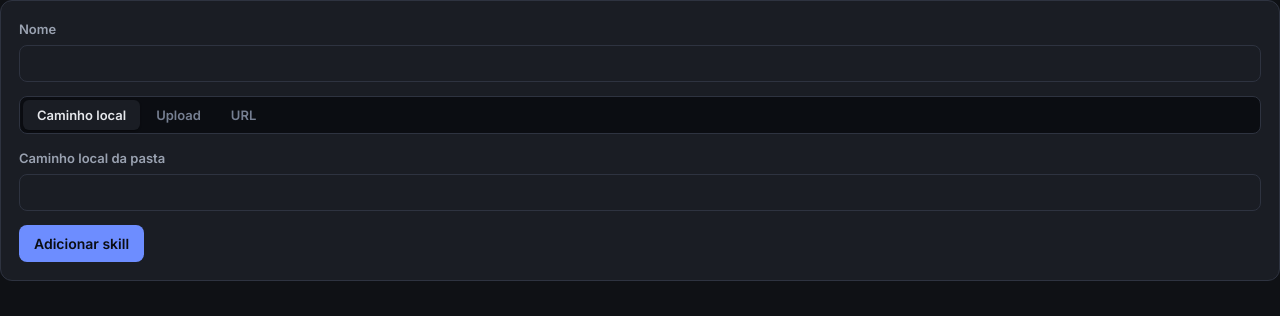
Test: SkillForm › shows an error when submitting the upload tab without a file
Type "Skill Upload" into the field labelled "Nome" at (640, 64), box [19,45,1261,82]
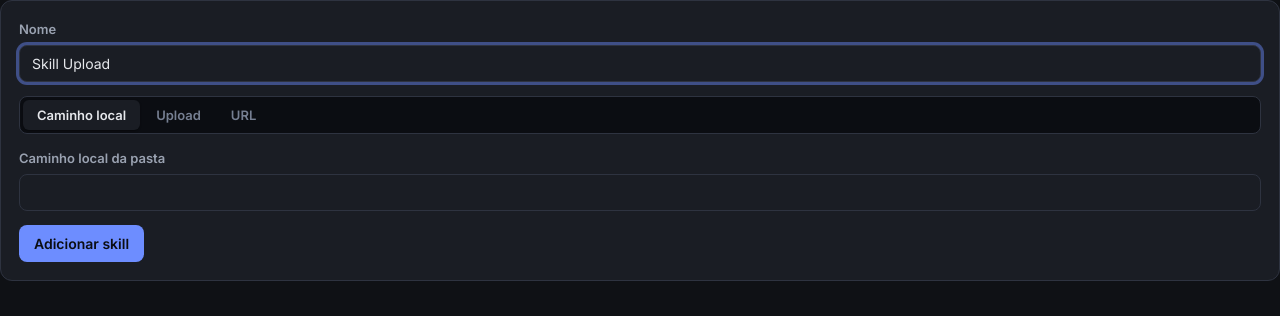
Click the tab "Upload" at (178, 115), box [142,100,215,130]
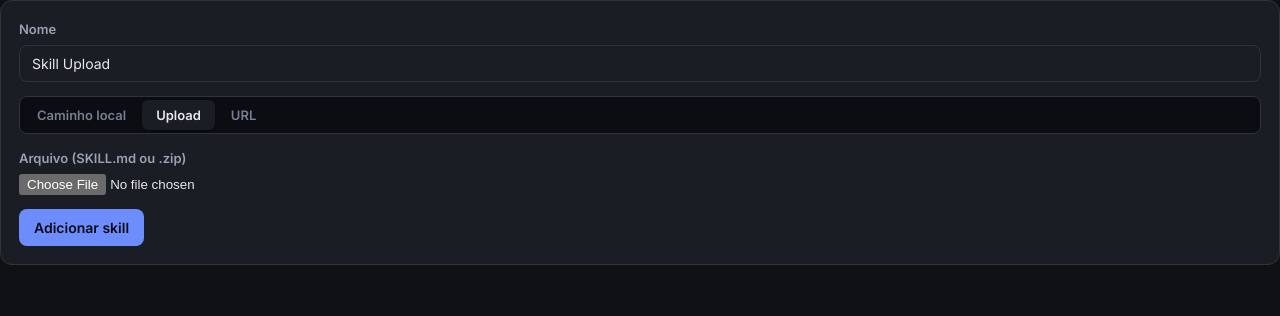
Click the button "Adicionar skill" at (82, 228), box [19,209,144,246]
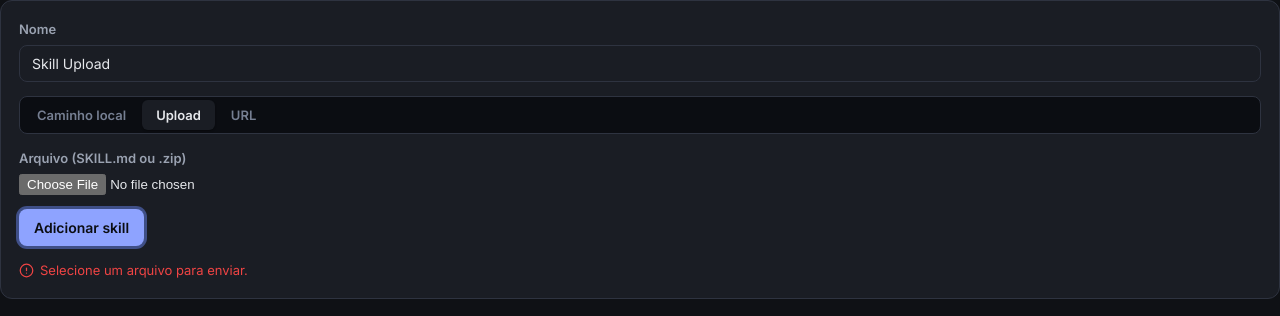
Expected: the message reads "Selecione um arquivo para enviar.", [40,262,248,278]
